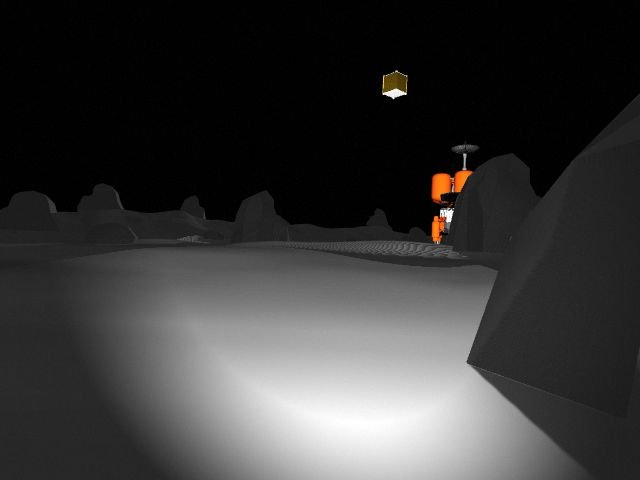cubesat: (376, 66, 417, 105)
